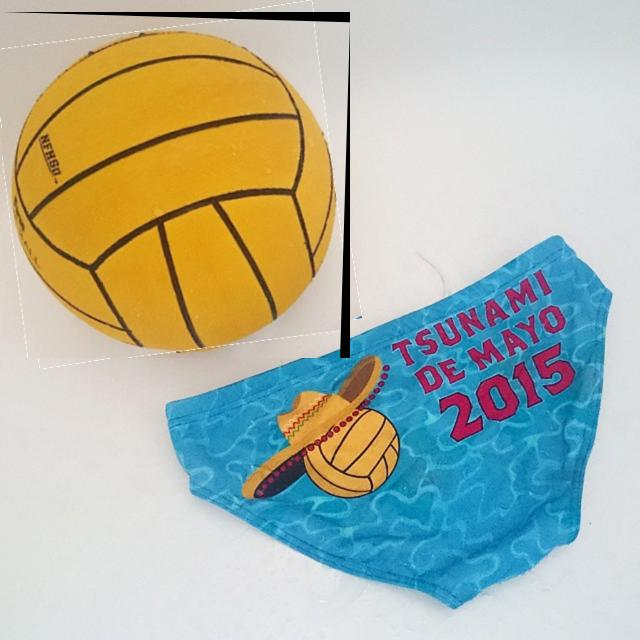Football: (2, 12, 350, 358)
